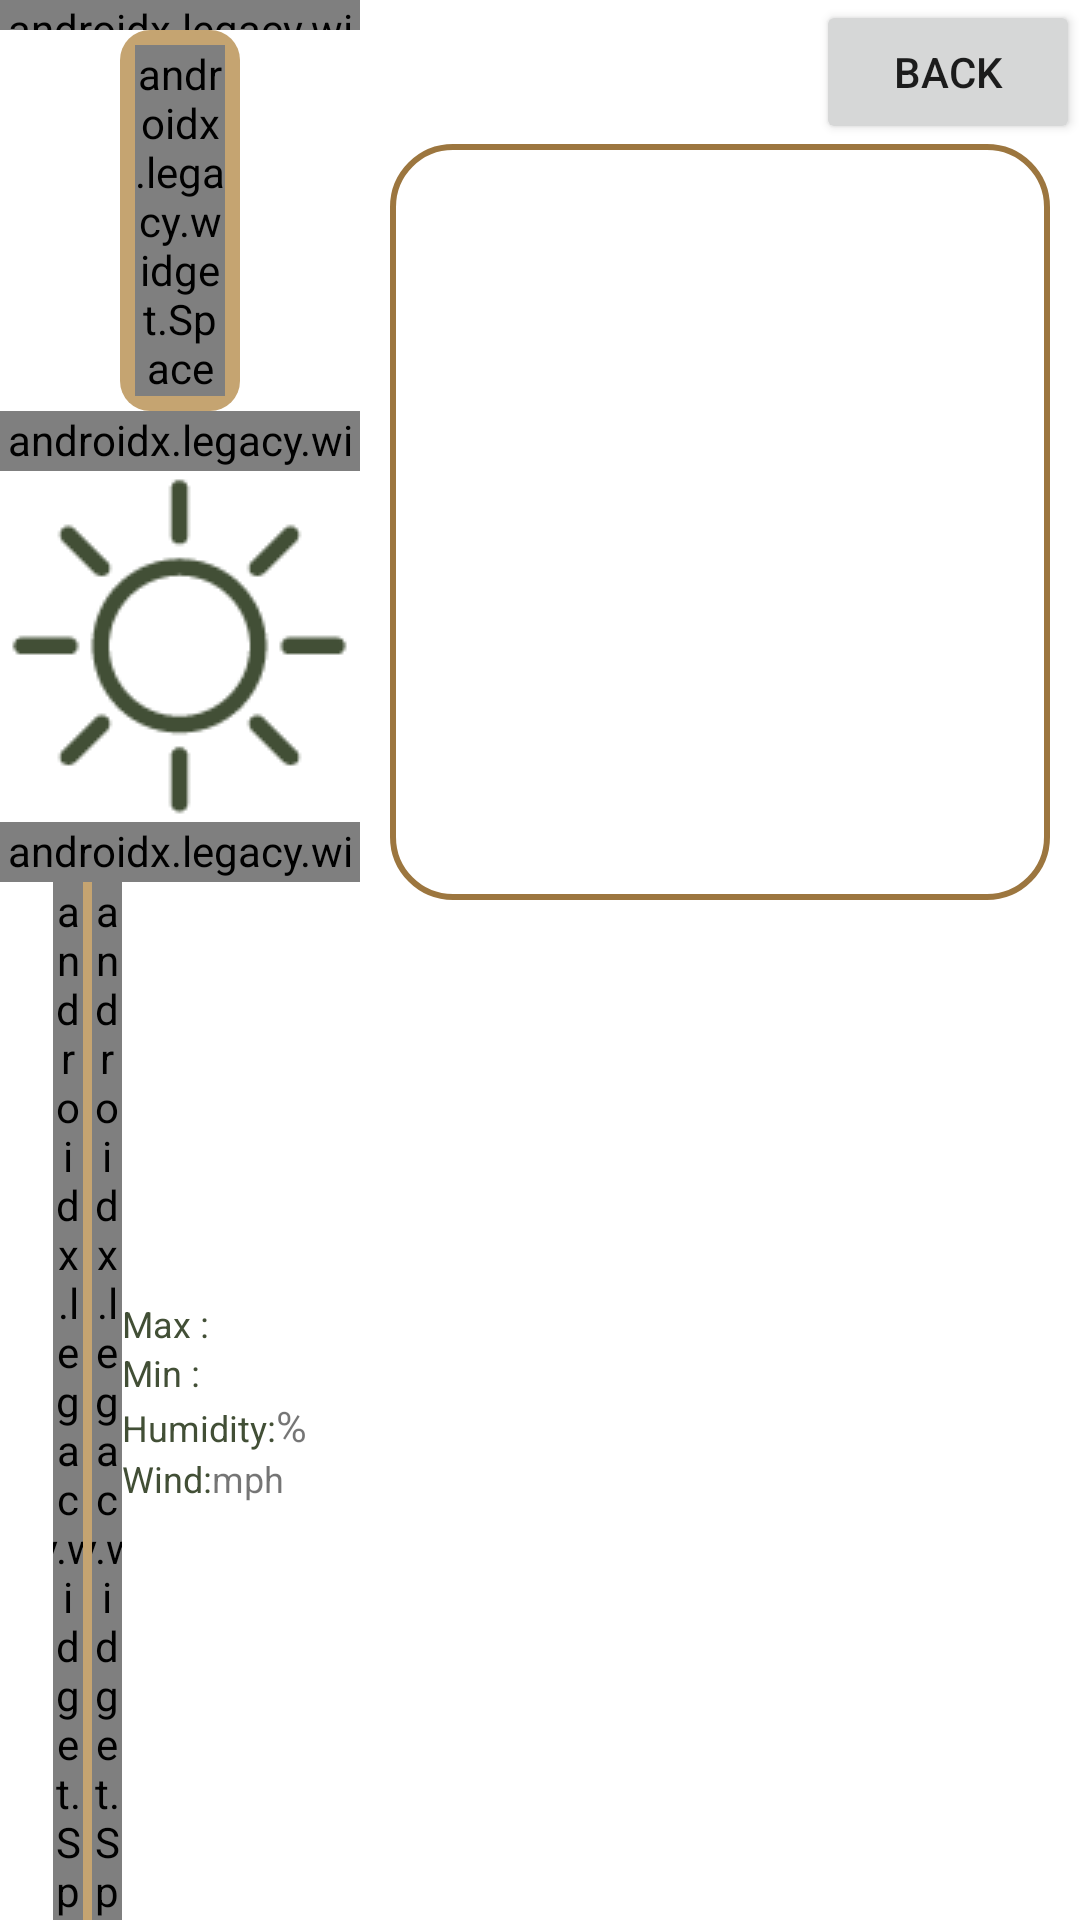

Icons on this 1080*1920 Android screen, each with the point to tap as [x,y]:
wdayclearskybig: [179,646]
